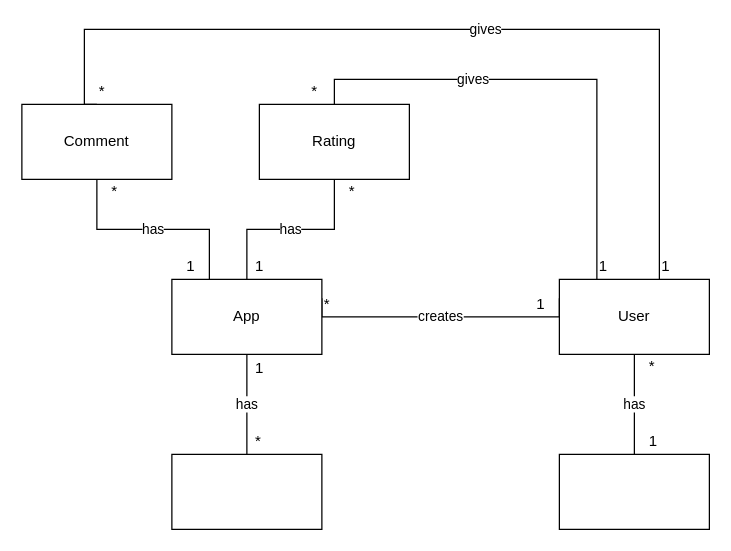
The diagram is 731 pixels wide and 551 high, and some of its shapes have lost their labels. The shapes that lost their labels are listed below. From the top down, each one's box as (x1, y1, x2, y2) in pixels, then its label:
(171, 453, 322, 529): Tag
(558, 453, 709, 529): Role
